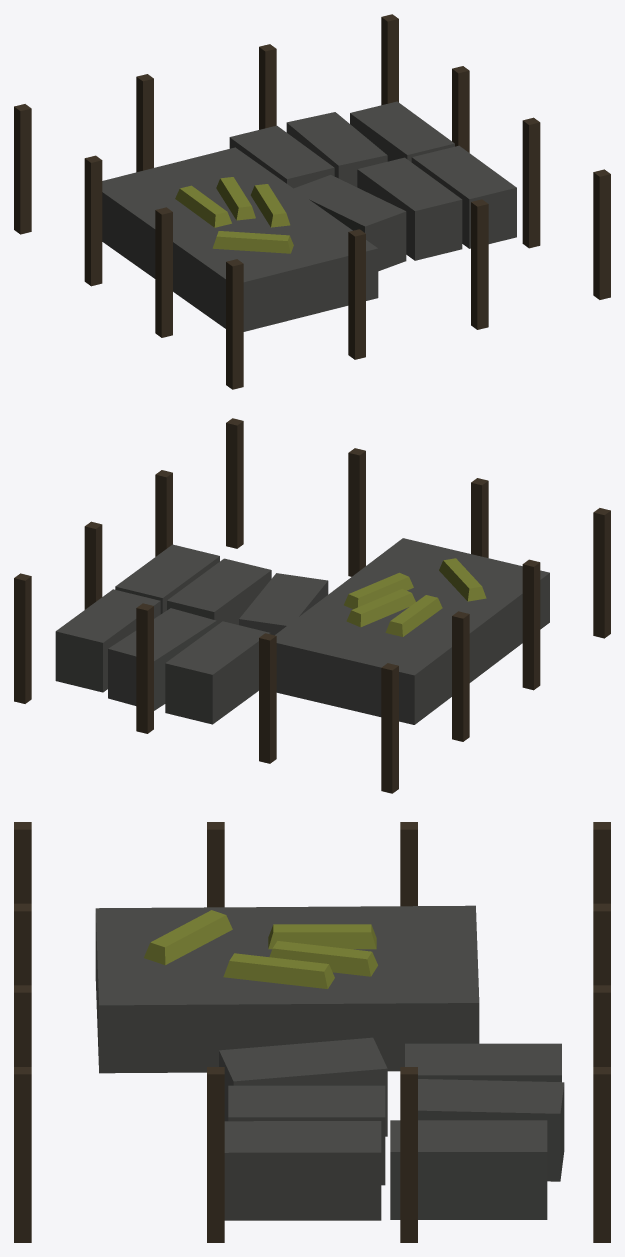
The model's file is construccionAltar.fbx.
The picture shows the model from 3 angles, top to bottom: view 1: azimuth 30°, elevation 25°; view 2: azimuth 150°, elevation 25°; view 3: azimuth 270°, elevation 25°; orthographic projection. The views are drawn at different scales.
Visible parts, largest first — view 1: construcAltar; view 2: construcAltar; view 3: construcAltar.
Boxes of the visible parts, x1,y1,x2,y2 form: construcAltar: [14, 14, 610, 389]; construcAltar: [14, 418, 610, 793]; construcAltar: [14, 822, 610, 1242].
Bounding box in the file's own units: 1.02 × 0.3177 × 1.02.
